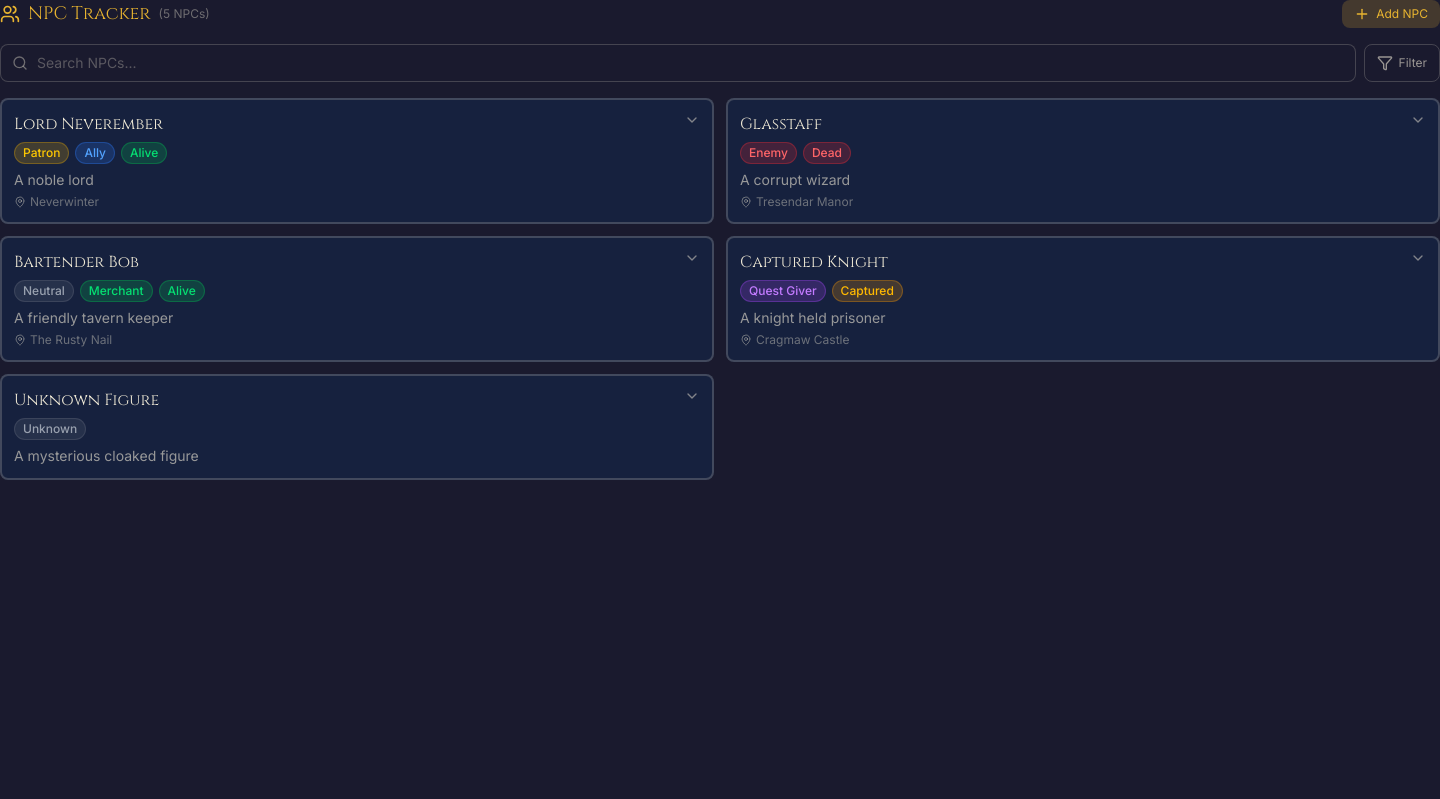
Test: NPCTracker › should open form on "Add NPC" click
Click the button labelled "Add NPC" at (1391, 14), box [1342, 0, 1439, 28]
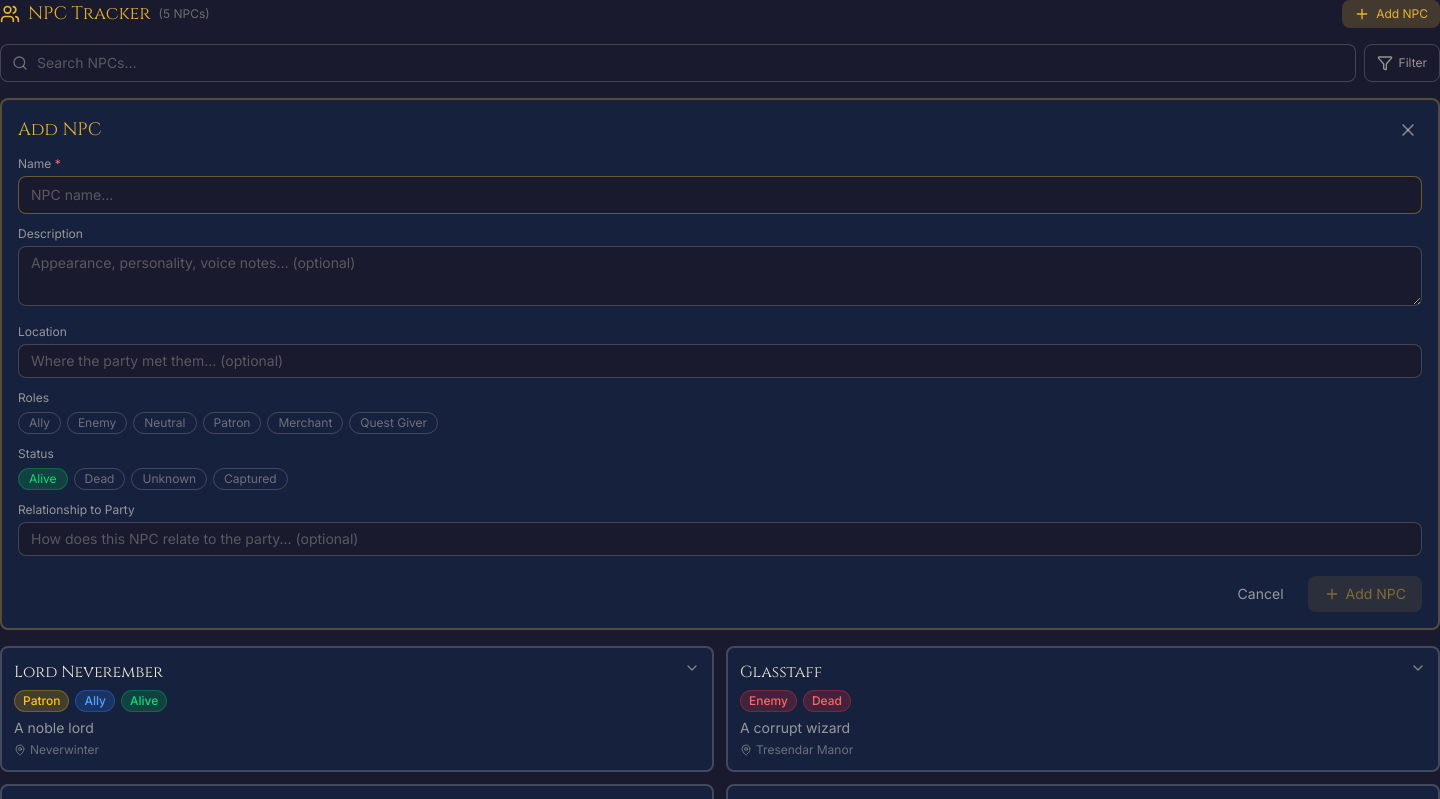
Expected: the form with test id "npc-form" is shown
